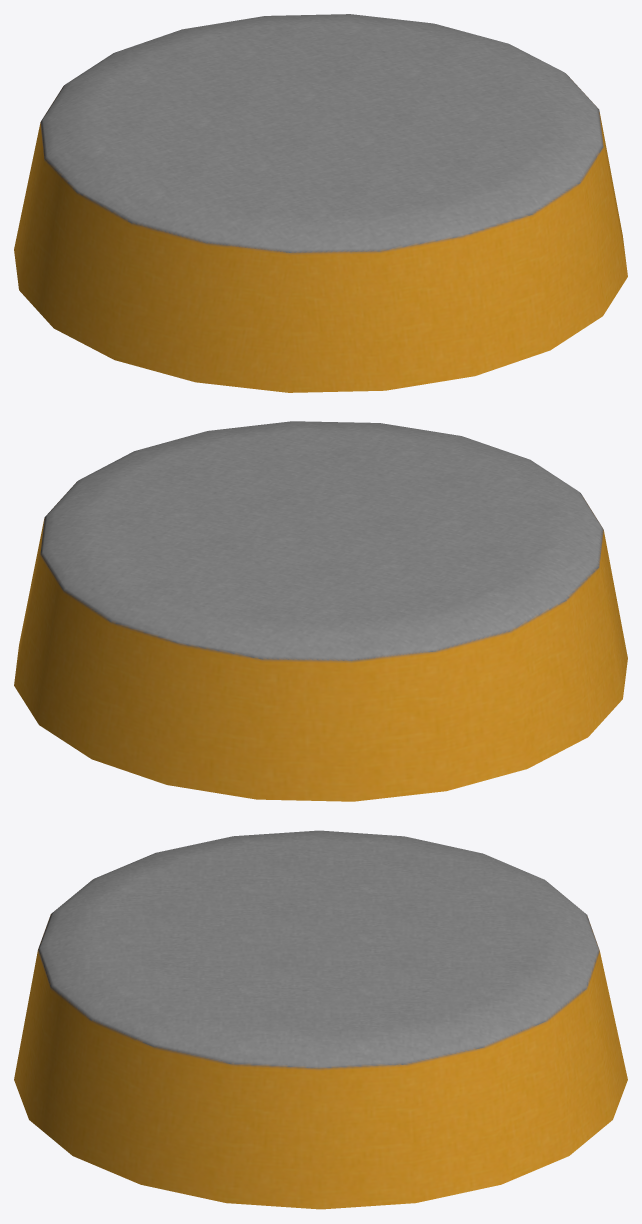
The model's file is RoundPouf.fbx.
3 views of the same model, one above another, from view 1: azimuth 30°, elevation 25°; view 2: azimuth 150°, elevation 25°; view 3: azimuth 270°, elevation 25° (orthographic).
Visible parts, largest first — view 1: PoufRound; view 2: PoufRound; view 3: PoufRound.
Boxes of the visible parts, x1,y1,x2,y2 form: PoufRound: [14, 14, 627, 392]; PoufRound: [14, 421, 627, 801]; PoufRound: [14, 830, 627, 1209].
Size of the model in its own units: 170 by 44.74 by 170.
